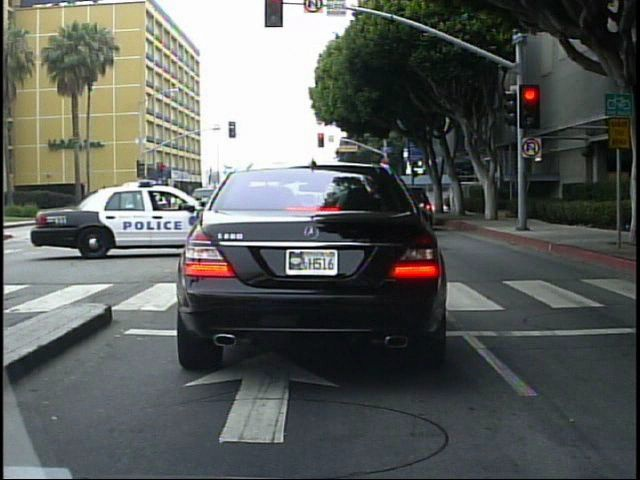person: (442, 179, 459, 215)
